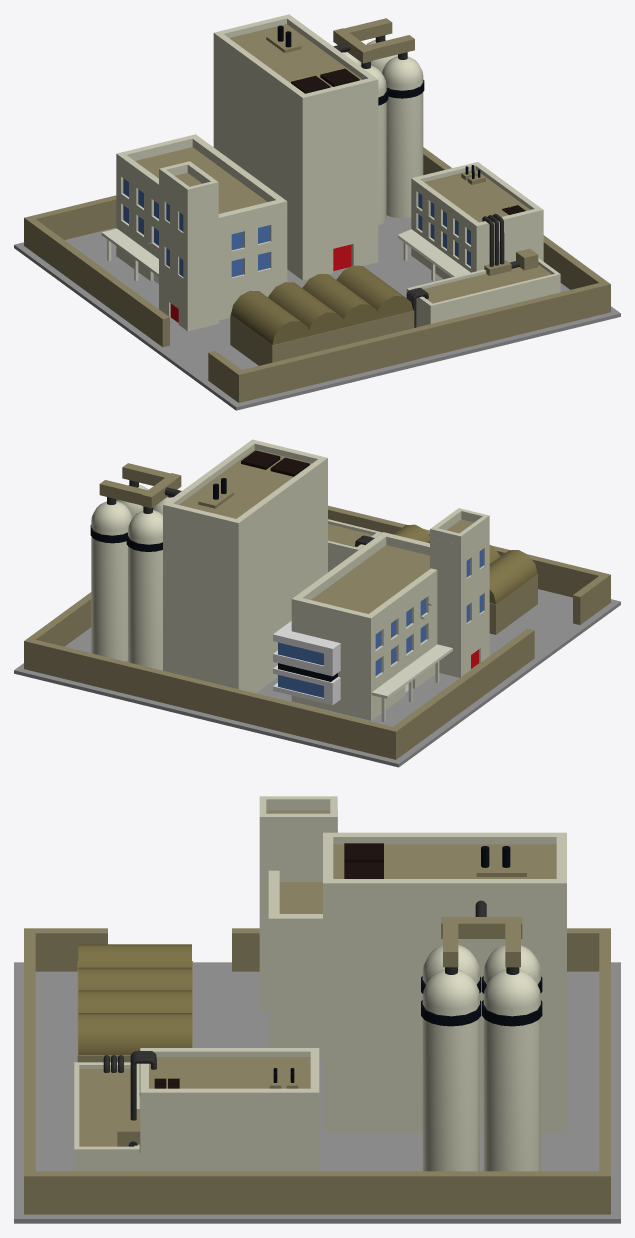
Rendered from Fabryka IV.FBX.
3 renders of one model, top to bottom at view 1: azimuth 30°, elevation 25°; view 2: azimuth 150°, elevation 25°; view 3: azimuth 270°, elevation 25°, orthographic. The views are drawn at different scales.
Parts seen in each view (by area): view 1: Box004, Box061, Plane001, Box009, Box008, Box007, Capsule002, Box005, Box056, Box006, Box058, Cylinder027 (+15 smaller); view 2: Box004, Box061, Plane001, Box008, Box009, Capsule001, Capsule004, Object002, Box056, Box058, Box010, Cylinder027 (+13 smaller); view 3: Box004, Plane001, Box061, Box007, Capsule001, Capsule002, Box008, Box058, Box009, Box059, Cylinder024, Box060 (+19 smaller).
Part boxes in pixels (x1=…): Box004: x1=213, y1=14, x2=378, y2=280; Box061: x1=24, y1=147, x2=610, y2=402; Plane001: x1=14, y1=215, x2=620, y2=410; Box009: x1=159, y1=179, x2=218, y2=331; Box008: x1=116, y1=164, x2=287, y2=320; Box007: x1=411, y1=162, x2=543, y2=279; Capsule002: x1=382, y1=56, x2=423, y2=218; Box005: x1=230, y1=310, x2=414, y2=365; Box056: x1=116, y1=134, x2=287, y2=226; Box006: x1=406, y1=258, x2=560, y2=327; Box058: x1=229, y1=24, x2=362, y2=87; Cylinder027: x1=231, y1=290, x2=309, y2=345; Box004: x1=163, y1=439, x2=327, y2=693; Box061: x1=24, y1=505, x2=610, y2=759; Plane001: x1=14, y1=589, x2=620, y2=767; Box008: x1=291, y1=581, x2=437, y2=720; Box009: x1=430, y1=526, x2=489, y2=677; Capsule001: x1=91, y1=501, x2=132, y2=661; Capsule004: x1=128, y1=510, x2=162, y2=670; Object002: x1=311, y1=545, x2=429, y2=613; Box056: x1=291, y1=532, x2=437, y2=628; Box058: x1=179, y1=449, x2=311, y2=518; Box010: x1=273, y1=621, x2=340, y2=705; Cylinder027: x1=489, y1=550, x2=537, y2=604; Box004: x1=323, y1=832, x2=566, y2=1132; Plane001: x1=14, y1=962, x2=620, y2=1223; Box061: x1=24, y1=928, x2=610, y2=1214; Box007: x1=140, y1=1048, x2=319, y2=1171; Capsule001: x1=483, y1=969, x2=540, y2=1171; Capsule002: x1=422, y1=969, x2=479, y2=1171; Box008: x1=268, y1=931, x2=322, y2=1058; Box058: x1=333, y1=844, x2=556, y2=878; Box009: x1=259, y1=809, x2=337, y2=1010; Box059: x1=149, y1=1057, x2=310, y2=1088; Cylinder024: x1=78, y1=1013, x2=191, y2=1054; Box060: x1=79, y1=1069, x2=130, y2=1146.
Size of the model in its own units: 3 by 1.47 by 3.
